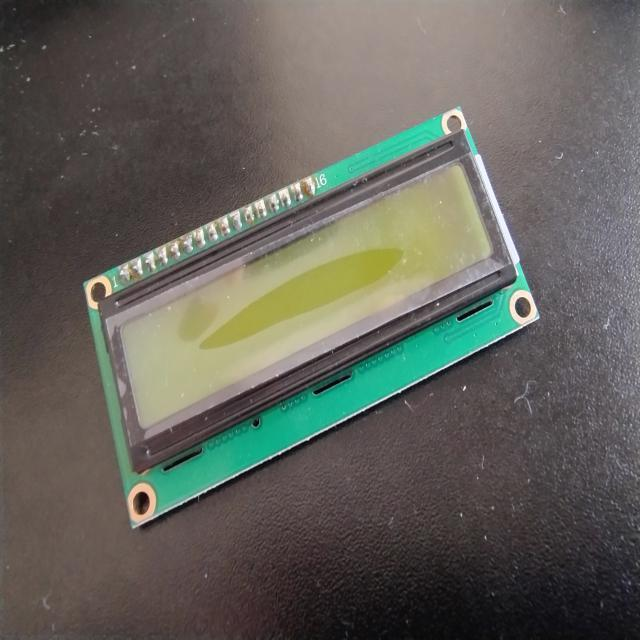lcd: (81, 104, 540, 529)
